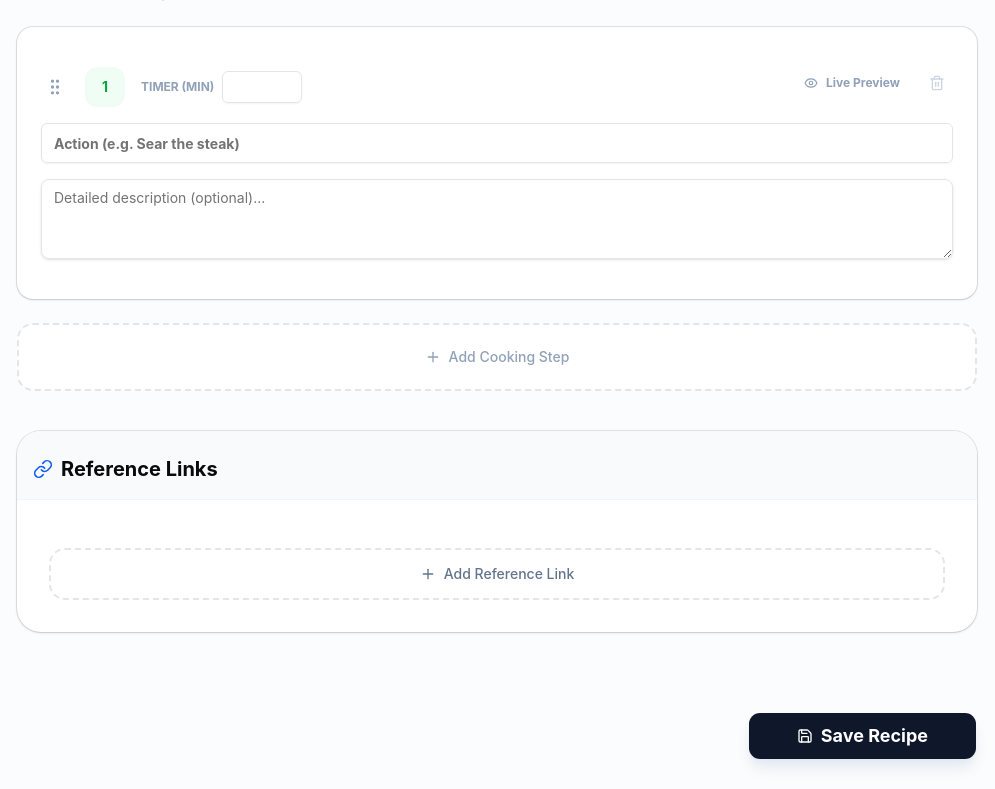
Test case: AddRecipe Page › validates required fields
(page scrolled)
Click the button "Save Recipe" at [862, 736], box [748,712,977,760]
(page scrolled)
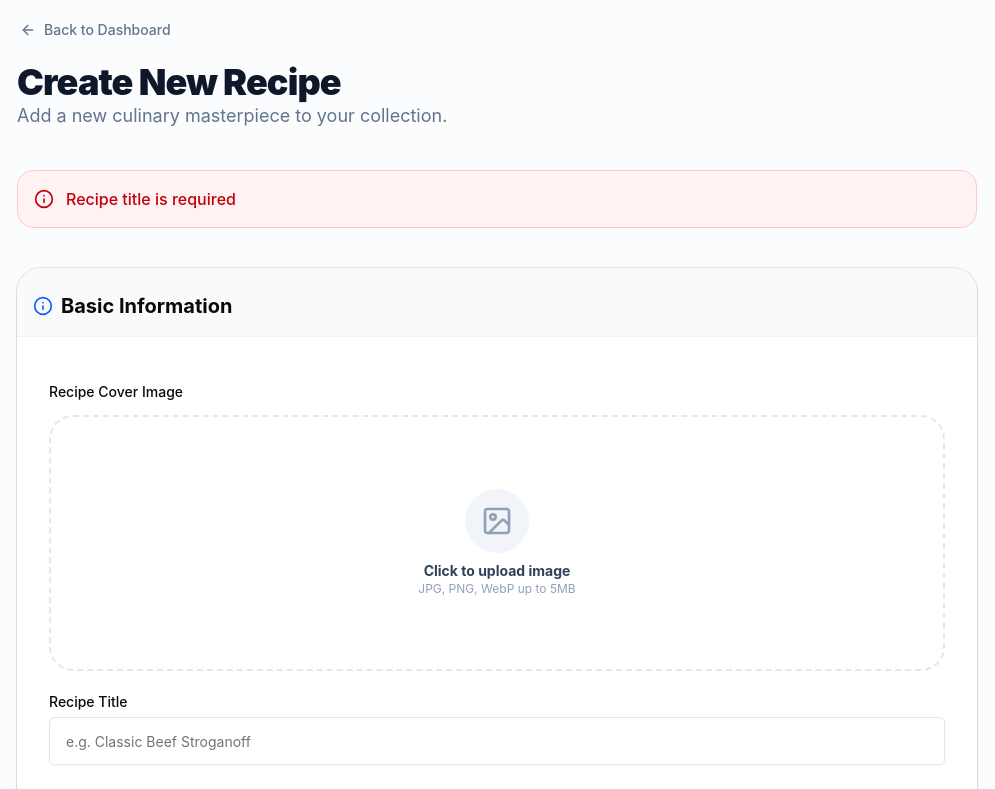
Result: the text "Recipe title is required" is shown at [66,187,236,211]
